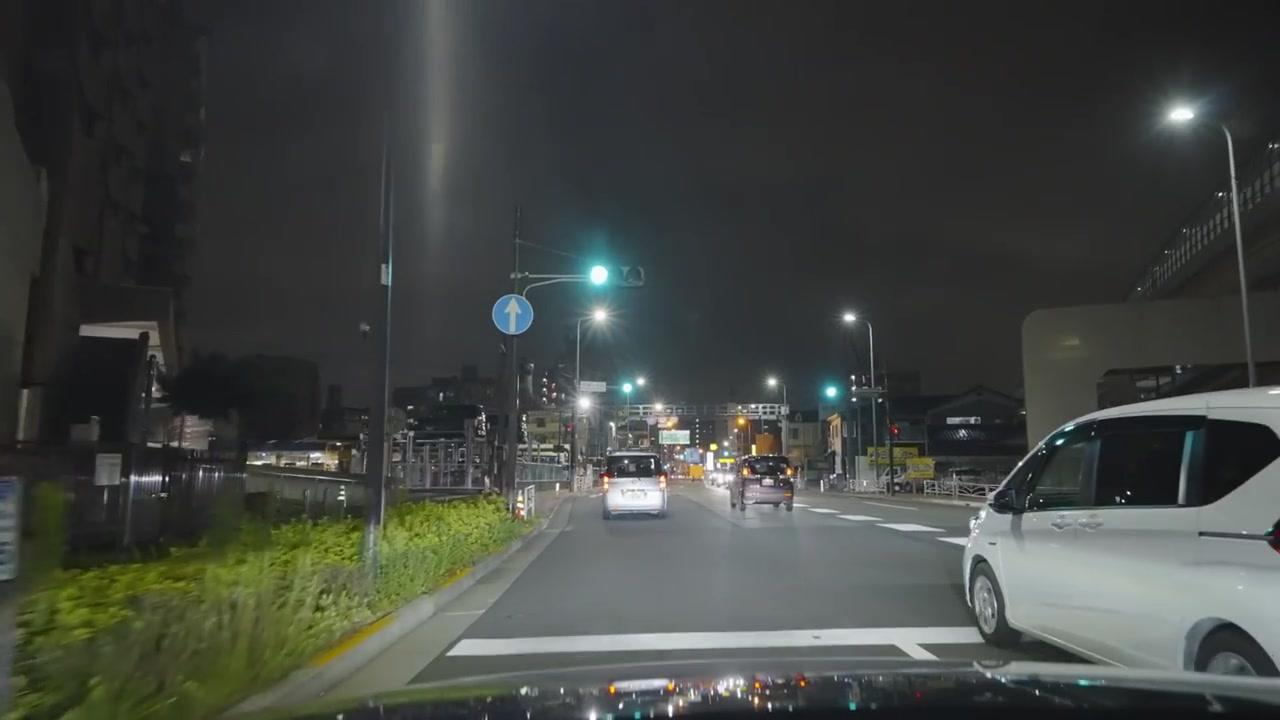car: (960, 387, 1280, 680), (601, 451, 670, 520), (728, 454, 795, 511)
traffic light: (588, 264, 610, 291), (821, 380, 842, 406), (622, 381, 635, 397), (736, 415, 748, 431), (890, 425, 899, 439)
